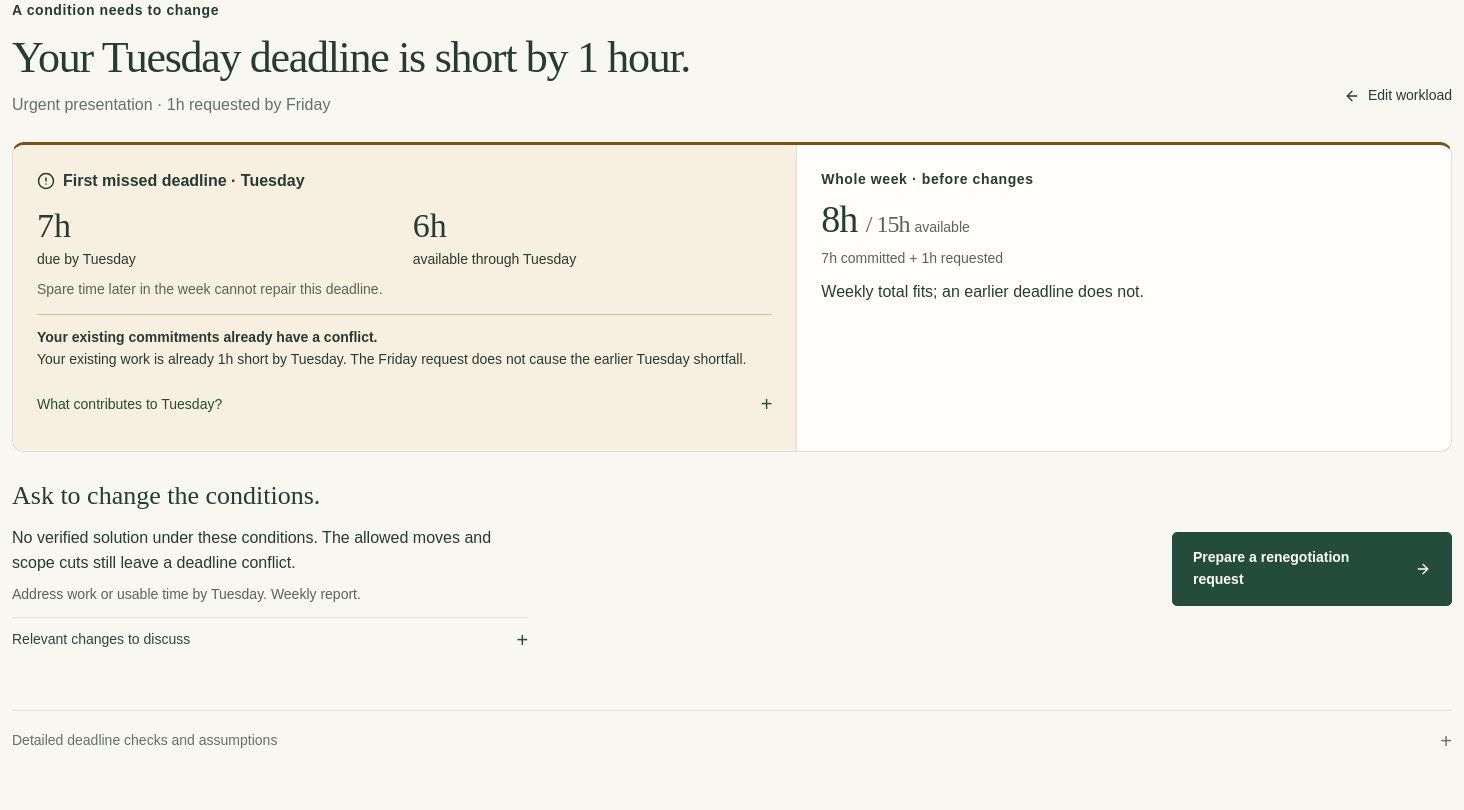
Test case: shows causal attribution, relevant Fixed work, and only unverified directions for Tuesday
Check: the element named "Reality check" shows "Friday request does not cause the earlier Tuesday shortfall", box [37,351,746,367]
Click the heading "Relevant changes to discuss" at (101, 639), box [12,631,190,647]
(page scrolled)
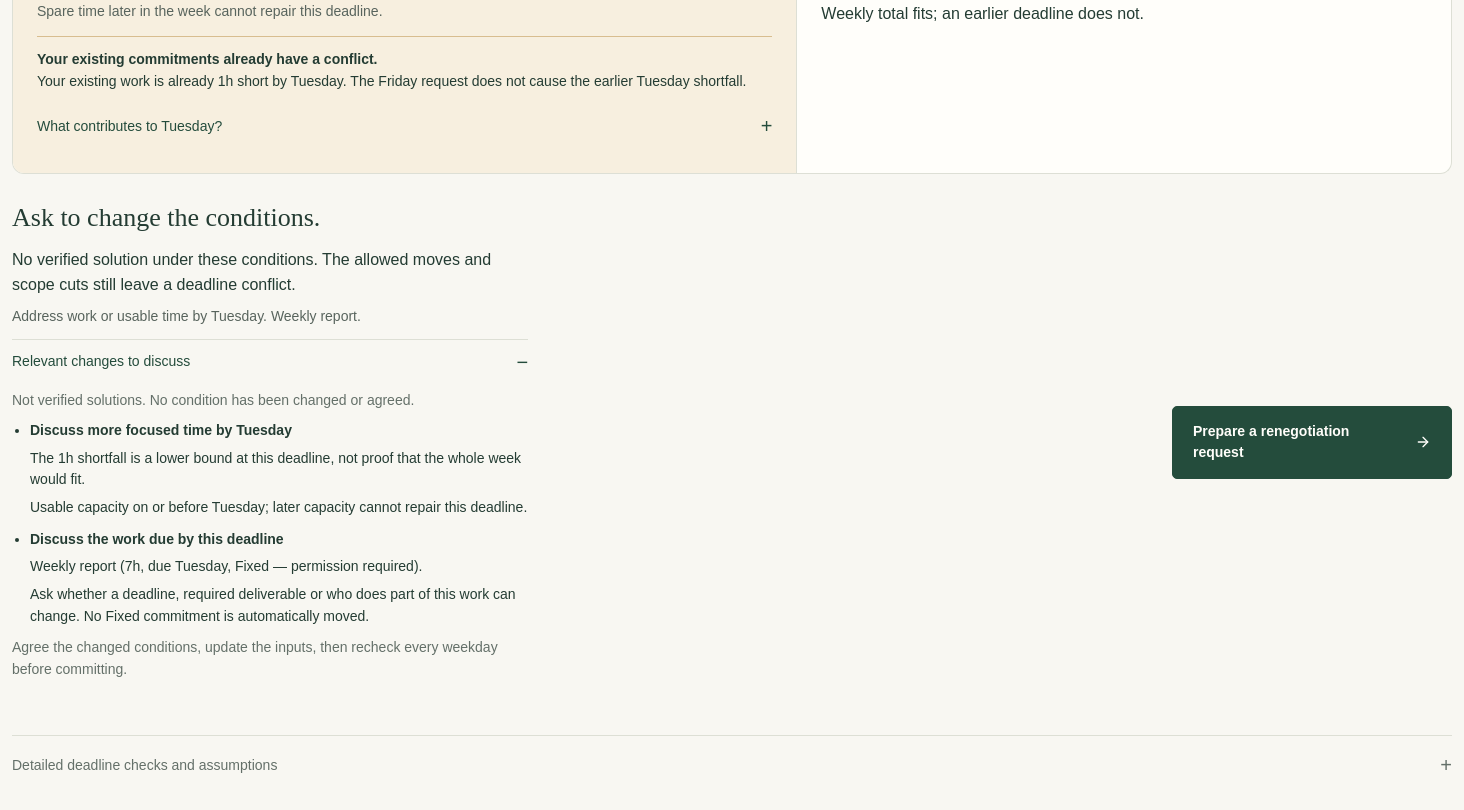
Check: the text "Not verified solutions. No condition has been changed or agreed." is shown, box [12,392,414,408]
Check: the text "Weekly report (7h, due Tuesday, Fixed" is shown, box [30,558,422,574]
